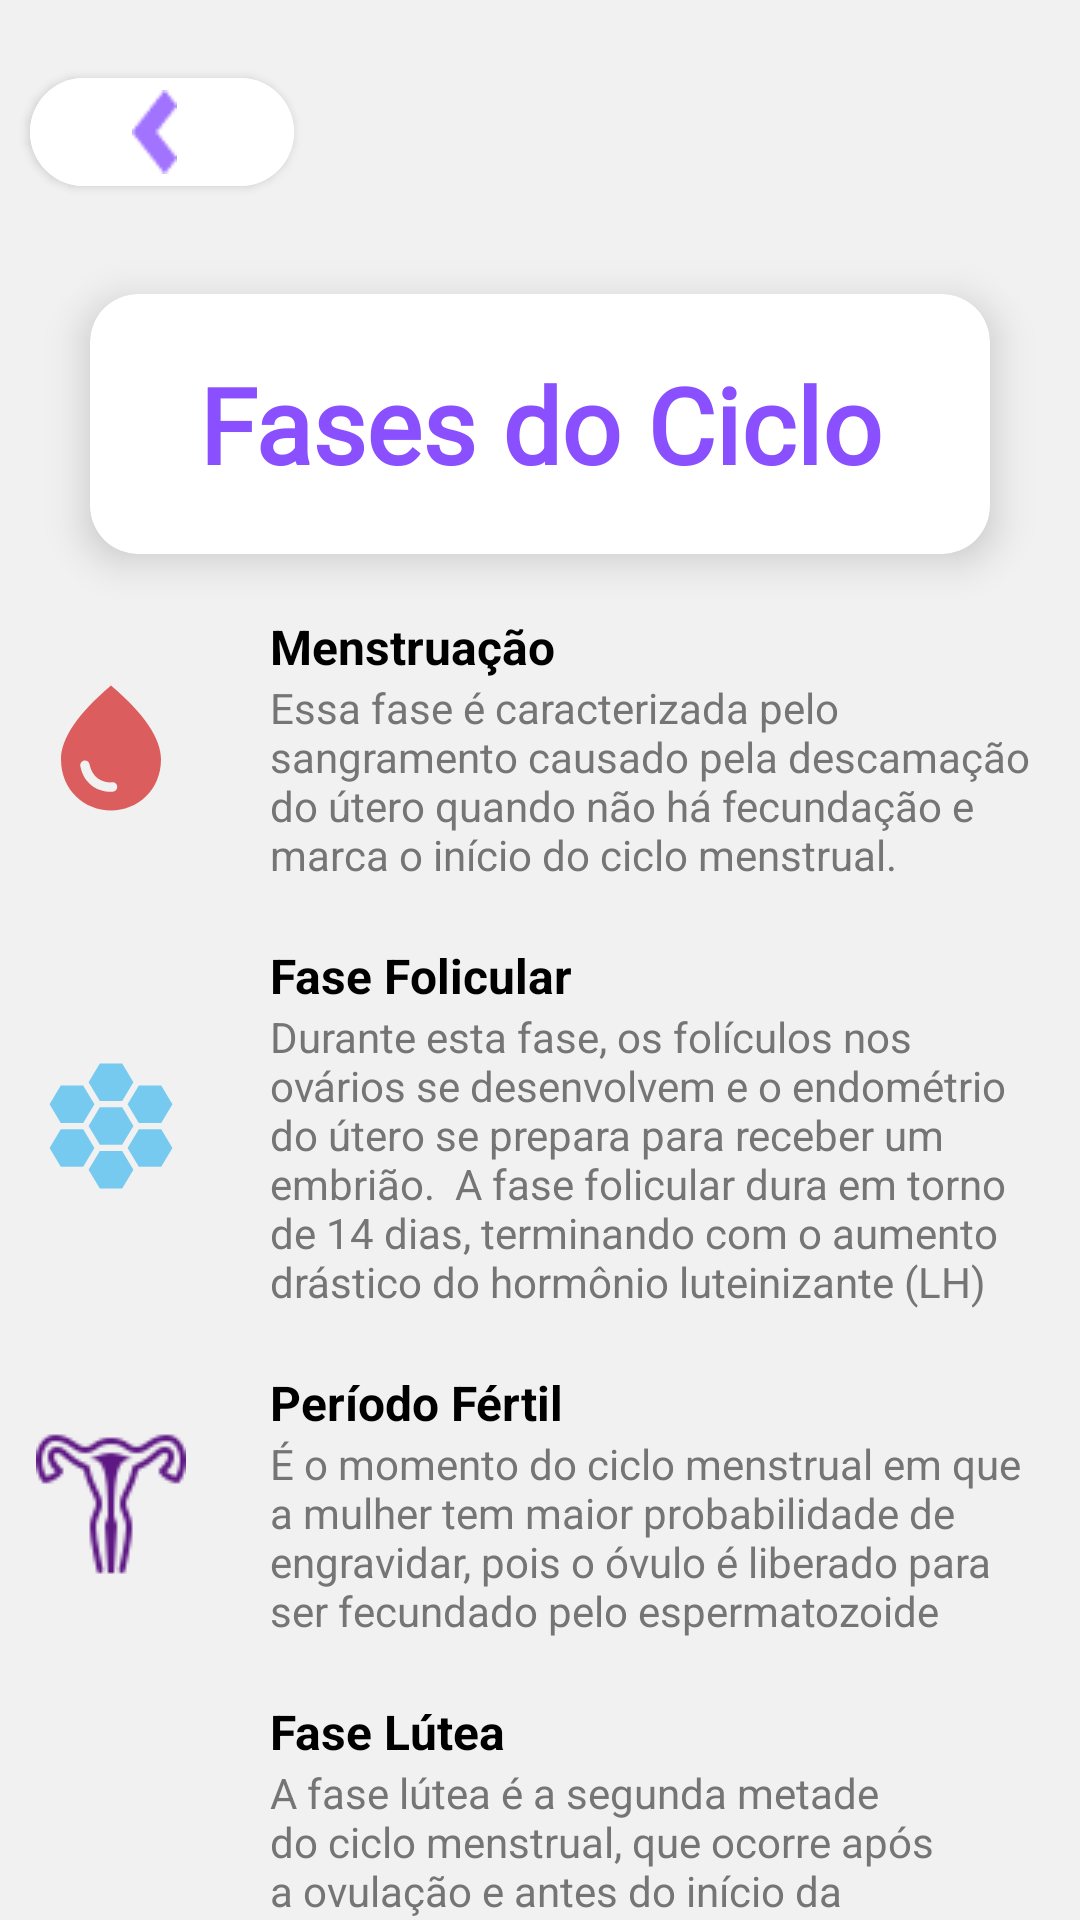

Icons on this 1080x1920 Android screen, each with its box as (x1, y1, x2, y2):
gota: (61, 686, 161, 811)
Voltar: (30, 76, 294, 190)
